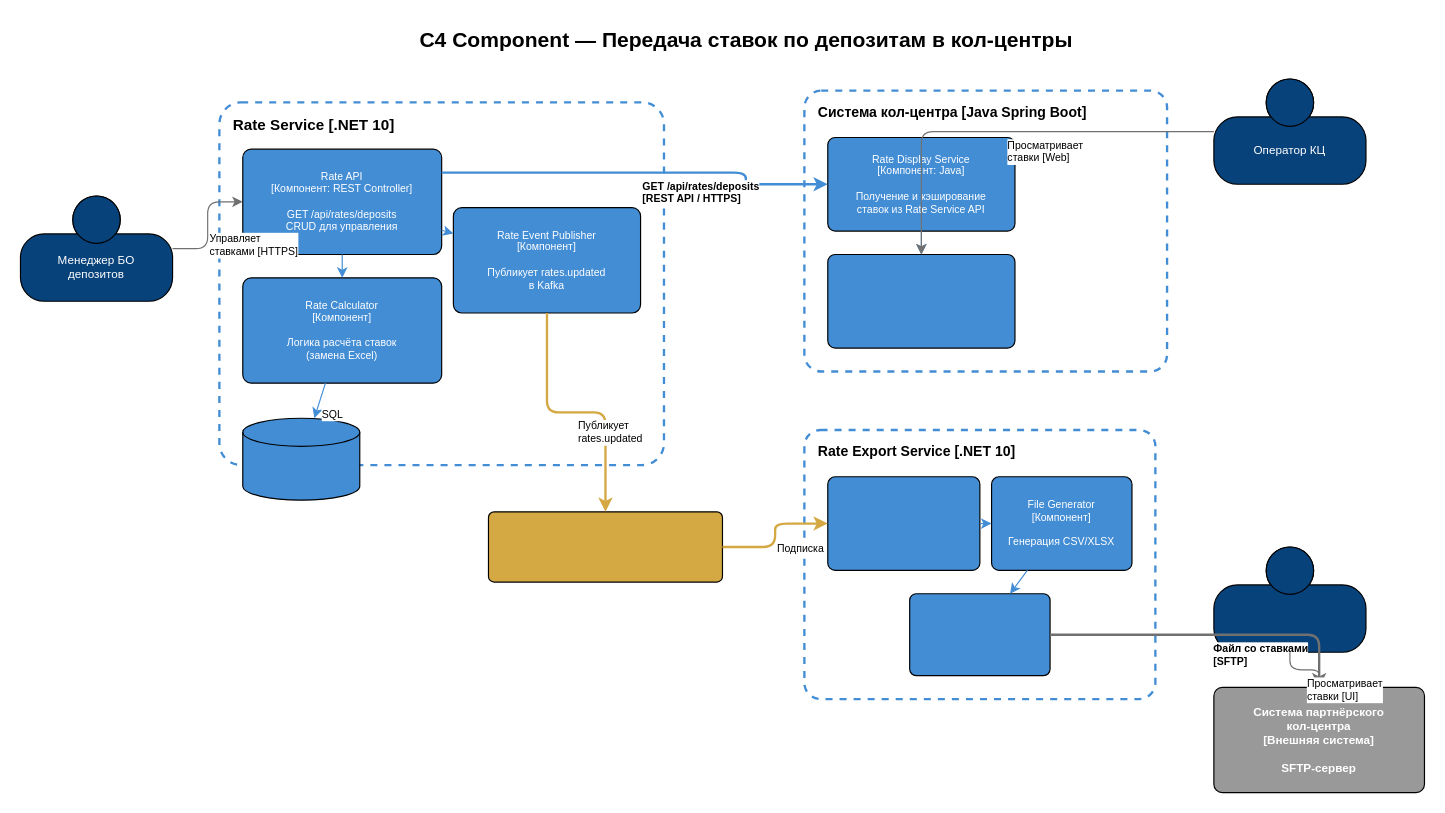
Image size: 1445x813. Some labels were removed from this diagram. The centre of each missing label's shape, as x and y in pixels:
"Apache Kafka [Топик: rates.updated]" belongs at (x=604, y=546).
"Kafka Consumer [Компонент] Подписка на rates.updated" belongs at (x=903, y=523).
"Rate DB [MS SQL]" belongs at (x=301, y=458).
"SFTP Client [Компонент] Отправка файлов" belongs at (x=979, y=634).
"Web UI [Компонент: React.js] Раздел «Депозитные ставки» для операторов" belongs at (x=921, y=300).
"Оператор партнёрского КЦ" belongs at (x=1289, y=599).
